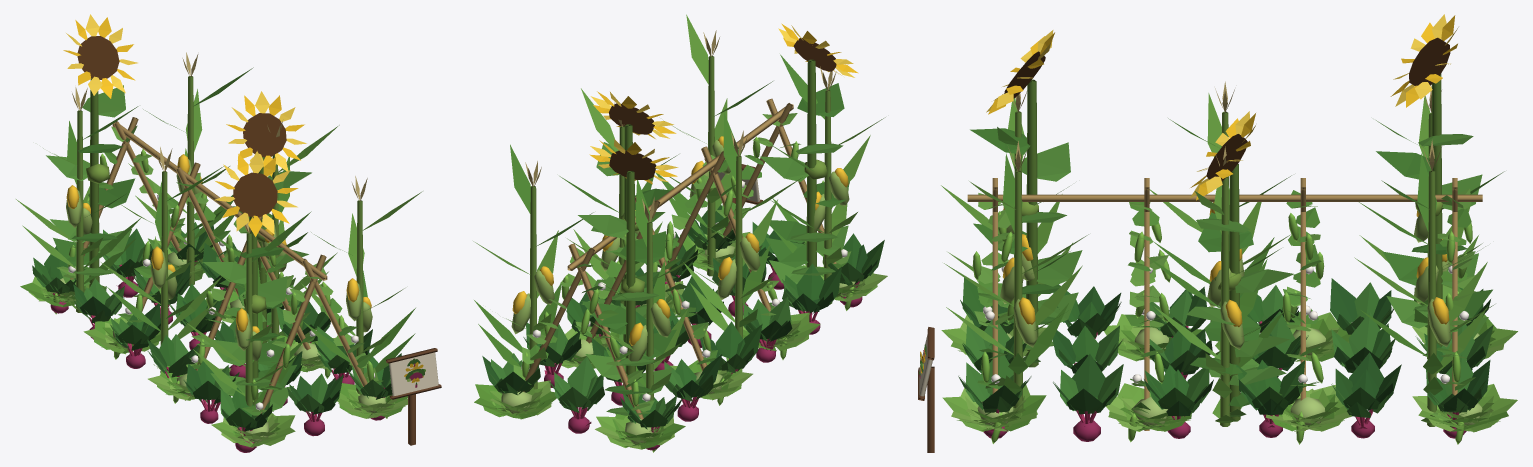
The model's file is garden2.glb.
The picture shows the model from 3 angles, left to right: view 1: azimuth 30°, elevation 25°; view 2: azimuth 150°, elevation 25°; view 3: azimuth 270°, elevation 25°; orthographic projection. The views are drawn at different scales.
Parts seen in each view (by area): view 1: garden_sunf_3, garden_corn_3, garden_beet_3, garden_peas_1, garden_lettuce_3, garden_peas_3, garden_beet_2, garden_corn_2, garden_sunf_2, garden_sign_lettuce, garden_peas_2, garden_lettuce_2; view 2: garden_corn_3, garden_beet_3, garden_sunf_3, garden_lettuce_3, garden_peas_1, garden_peas_3, garden_corn_2, garden_beet_2, garden_sunf_2, garden_peas_2, garden_lettuce_2; view 3: garden_beet_3, garden_sunf_3, garden_corn_3, garden_lettuce_3, garden_peas_3, garden_peas_1, garden_beet_2, garden_corn_2, garden_sunf_2, garden_peas_2, garden_lettuce_2, garden_sign_lettuce.
Part boxes in pixels (box(x1,y1,x2,y2)): garden_sunf_3: box(46, 14, 311, 405); garden_corn_3: box(16, 52, 422, 406); garden_beet_3: box(32, 222, 401, 452); garden_peas_1: box(70, 117, 367, 416); garden_lettuce_3: box(20, 239, 407, 447); garden_peas_3: box(47, 125, 387, 430); garden_beet_2: box(42, 229, 392, 431); garden_corn_2: box(22, 148, 415, 406); garden_sunf_2: box(50, 164, 293, 410); garden_sign_lettuce: box(386, 348, 441, 445); garden_peas_2: box(57, 195, 383, 434); garden_lettuce_2: box(40, 258, 397, 442); garden_corn_3: box(473, 14, 885, 400); garden_beet_3: box(482, 205, 884, 450); garden_sunf_3: box(578, 23, 858, 397); garden_lettuce_3: box(474, 232, 887, 449); garden_peas_1: box(523, 98, 838, 419); garden_peas_3: box(503, 113, 854, 452); garden_corn_2: box(478, 150, 848, 396); garden_beet_2: box(491, 215, 871, 429); garden_sunf_2: box(585, 159, 848, 415); garden_peas_2: box(499, 181, 859, 431); garden_lettuce_2: box(488, 241, 865, 445); garden_beet_3: box(958, 277, 1493, 441); garden_sunf_3: box(970, 14, 1492, 421); garden_corn_3: box(941, 81, 1504, 426); garden_lettuce_3: box(941, 312, 1517, 432); garden_peas_3: box(972, 188, 1475, 444); garden_peas_1: box(967, 178, 1482, 430); garden_beet_2: box(963, 289, 1485, 426); garden_corn_2: box(946, 234, 1494, 397); garden_sunf_2: box(977, 202, 1488, 406); garden_peas_2: box(974, 259, 1471, 418); garden_lettuce_2: box(965, 325, 1495, 428); garden_sign_lettuce: box(918, 327, 934, 452).
Size of the model in its own units: 0.6892 by 0.8724 by 1.31.
